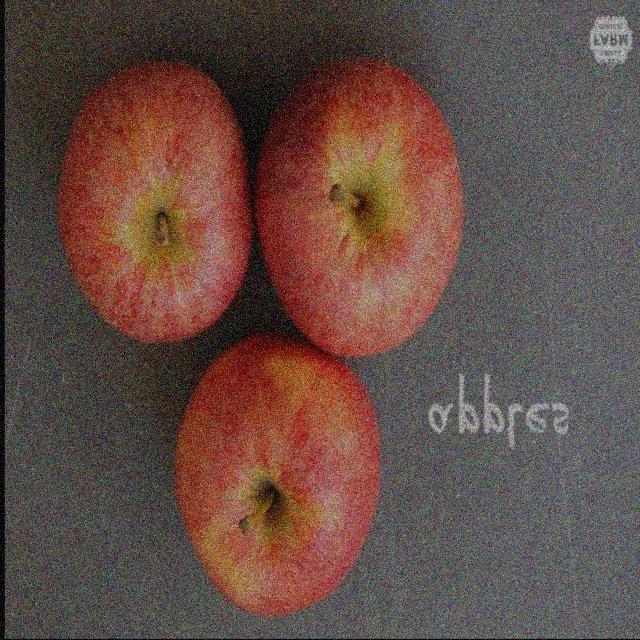red apple: (251, 51, 459, 363), (171, 334, 388, 617), (56, 56, 251, 339)
